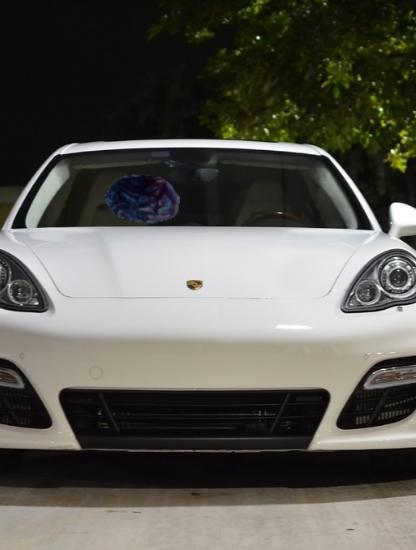Dates: (105, 161, 181, 237)
